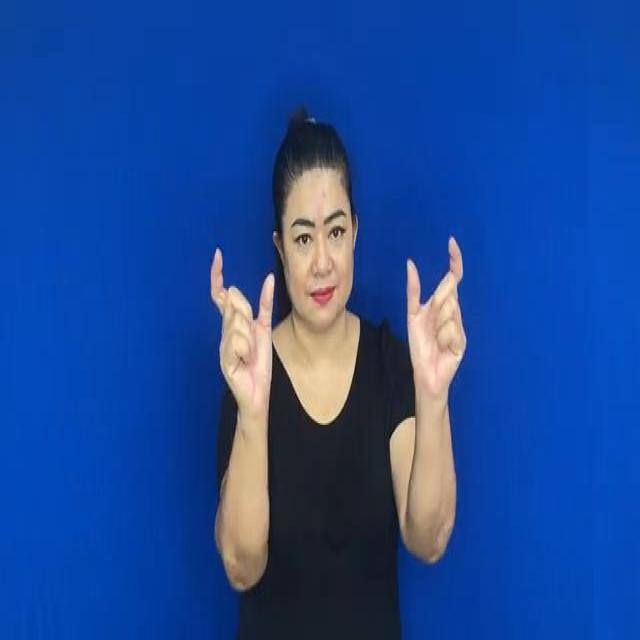crab: (197, 225, 472, 411)
